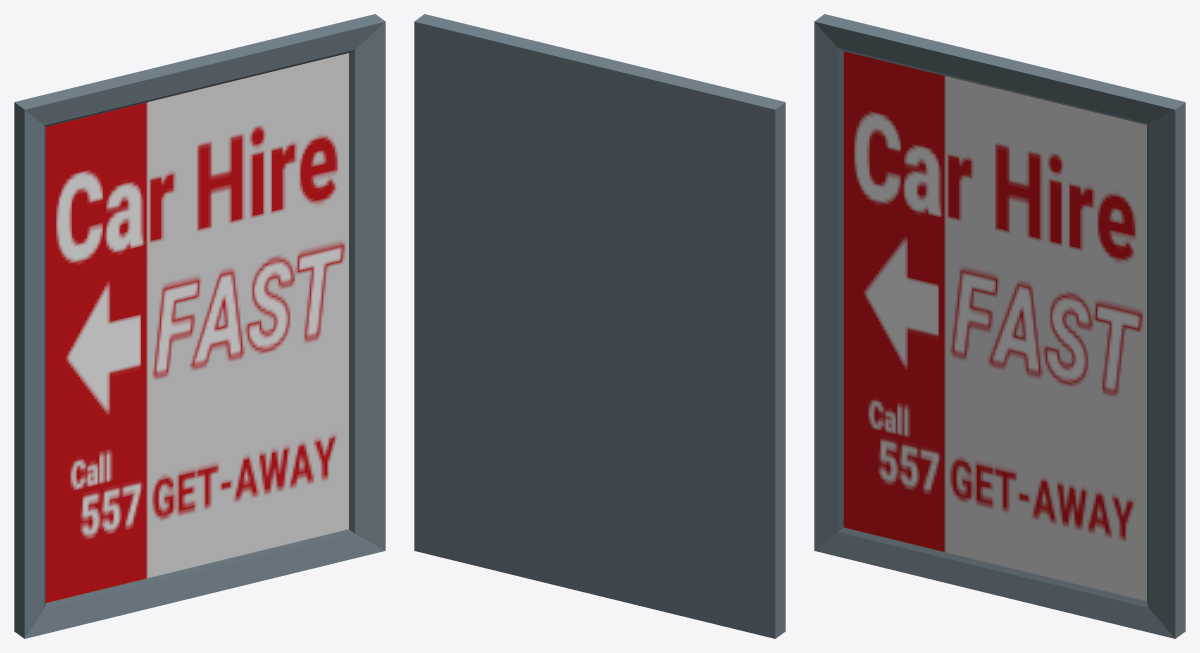
Rendered from SW_PROP_AdvertisingFrame_03.fbx.
3 renders of one model, left to right at view 1: azimuth 30°, elevation 25°; view 2: azimuth 150°, elevation 25°; view 3: azimuth 330°, elevation 25°, orthographic.
Parts seen in each view (by area): view 1: SW_PROP_AdvertisingFrame_03; view 2: SW_PROP_AdvertisingFrame_03; view 3: SW_PROP_AdvertisingFrame_03.
Part boxes in pixels (bbox=[...]): SW_PROP_AdvertisingFrame_03: bbox=[14, 14, 385, 638]; SW_PROP_AdvertisingFrame_03: bbox=[414, 14, 785, 638]; SW_PROP_AdvertisingFrame_03: bbox=[814, 14, 1185, 638].
Bounding box in the file's own units: 50 × 70 × 2.5.
